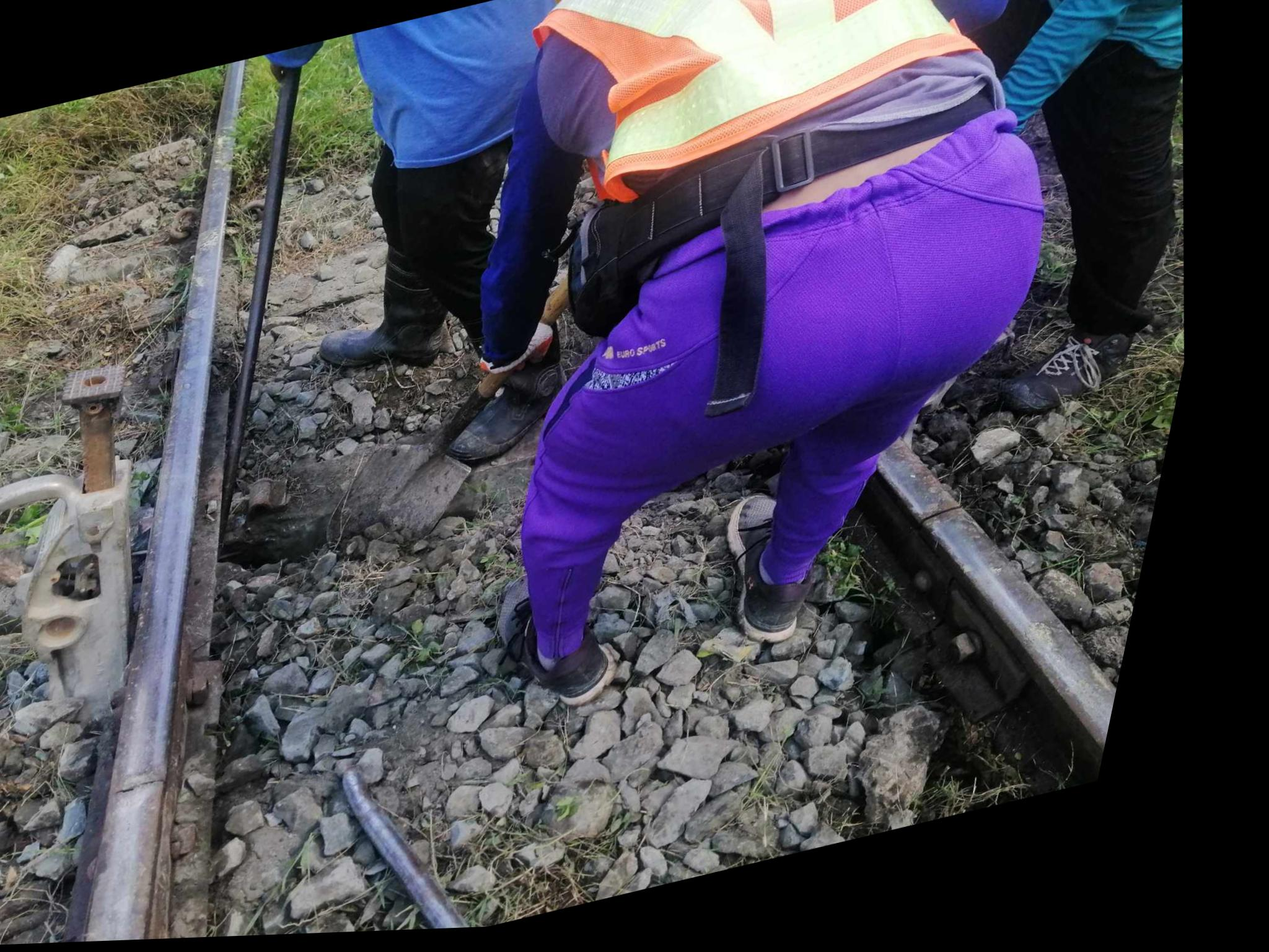person: (113, 732, 235, 847), (909, 474, 1018, 567)
